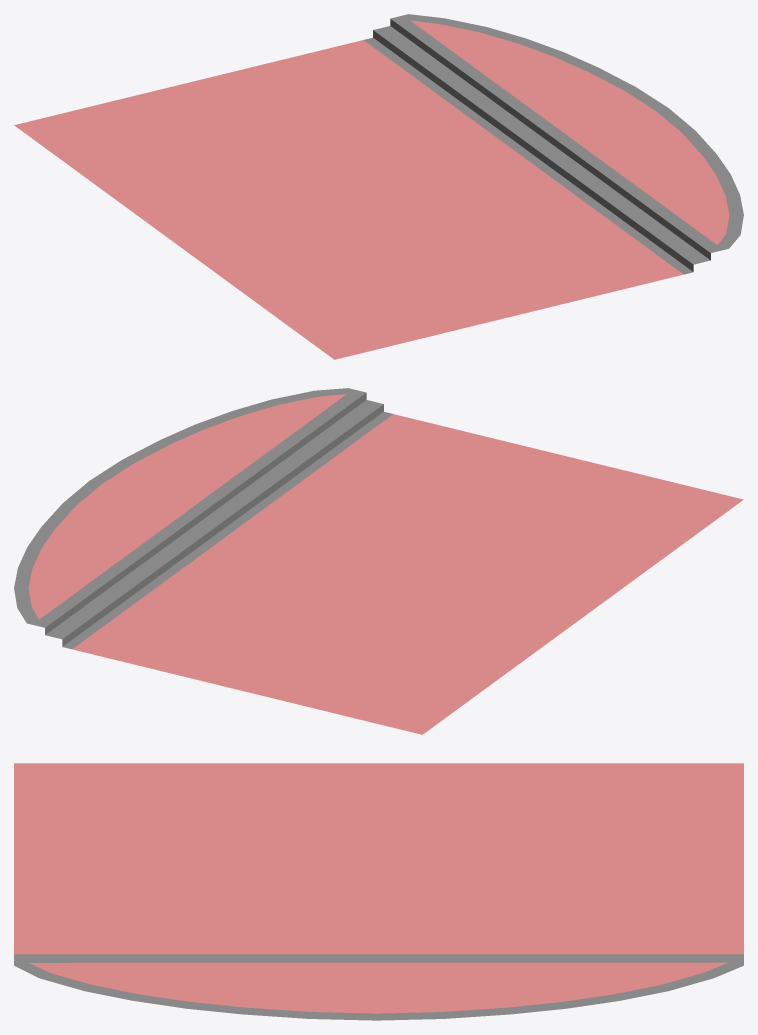
Rendered from S_Envi_Umeda_Bbilding_Game02b.gltf.
The picture shows the model from 3 angles, top to bottom: view 1: azimuth 30°, elevation 25°; view 2: azimuth 150°, elevation 25°; view 3: azimuth 270°, elevation 25°; orthographic projection. The views are drawn at different scales.
Visible parts, largest first — view 1: S_Envi_Umeda_Bbilding_Game02b; view 2: S_Envi_Umeda_Bbilding_Game02b; view 3: S_Envi_Umeda_Bbilding_Game02b.
Boxes of the visible parts, x1,y1,x2,y2 form: S_Envi_Umeda_Bbilding_Game02b: (14,14,743,359); S_Envi_Umeda_Bbilding_Game02b: (14,388,743,734); S_Envi_Umeda_Bbilding_Game02b: (14,763,743,1020).
Bounding box in the file's own units: 9.95 × 0.2865 × 11.2.
